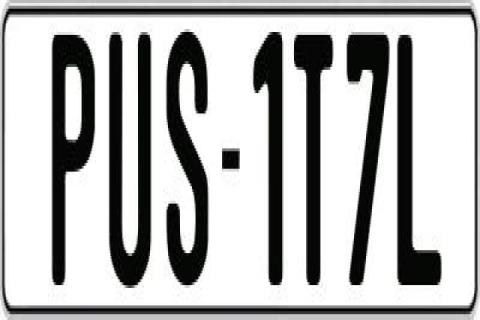0: (346, 27, 390, 280), (251, 32, 287, 302)
L: (396, 35, 446, 288)
P: (50, 29, 98, 297)
S: (168, 32, 212, 294)
T: (292, 32, 332, 291)
U: (110, 32, 156, 296)
